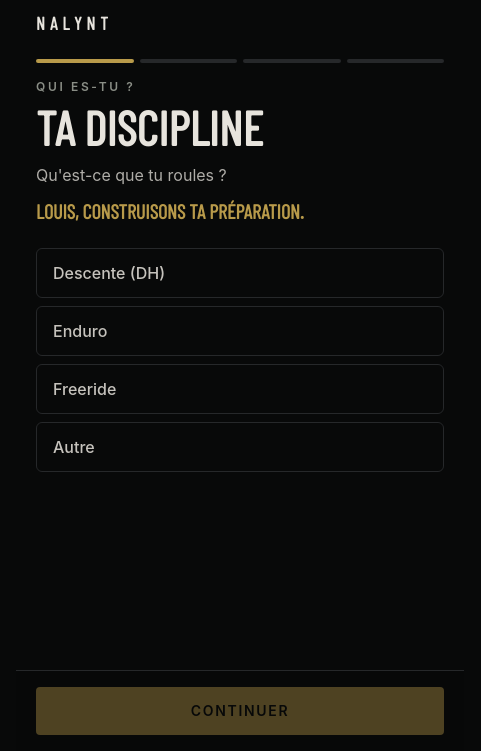
Test: AthleteOnboarding — one question per screen (UX-09) › each answer is saved at once and moves on: discipline → level → goal (with descriptions) → time
Check: the heading reads "Ta discipline", box [36,98,263,156]
Click the button "Descente (DH)".
click(109, 273)  # box [36,248,444,298]
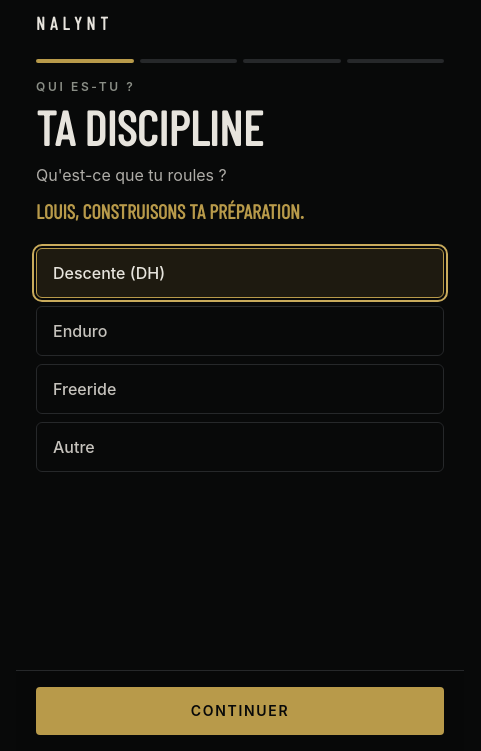
Click the button "Continuer".
click(240, 711)  # box [36,687,444,735]
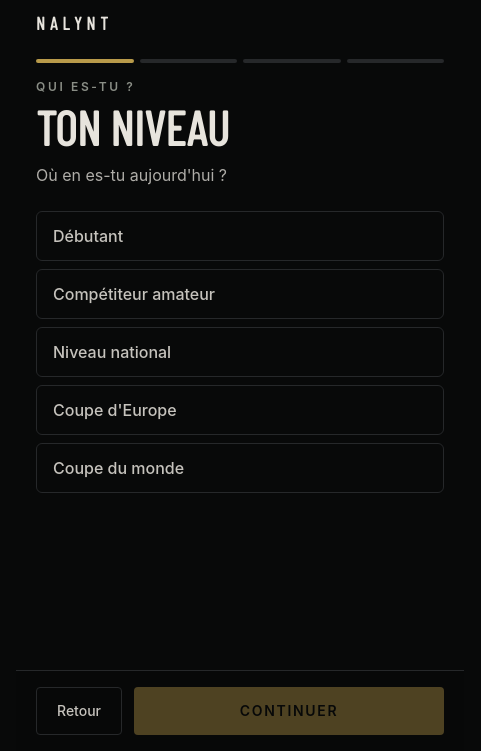
Check: the heading reads "Ton niveau", box [36,98,229,156]
Click the button "Compétiteur amateur".
click(134, 294)  # box [36,269,444,319]
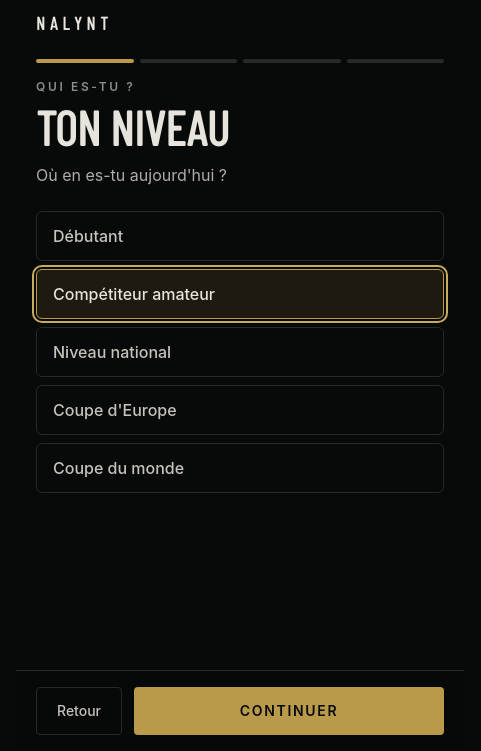
Click the button "Continuer".
click(289, 711)  # box [134,687,444,735]
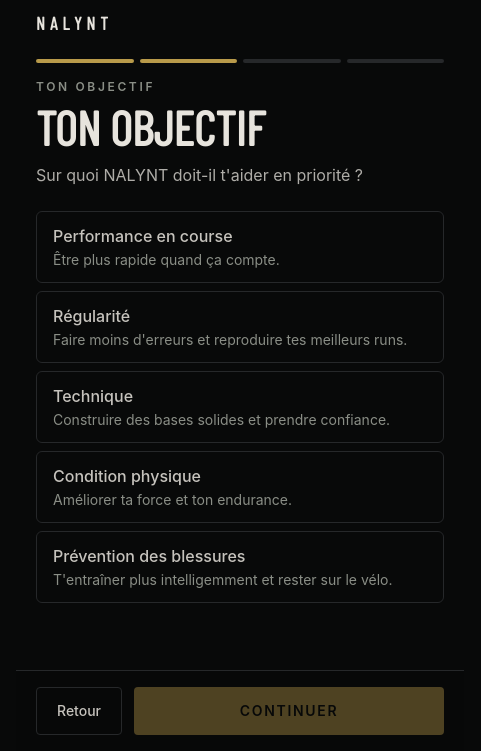
Check: the heading reads "Ton objectif", box [36,98,265,156]
Check: the text "Être plus rapide quand ça compte." is shown, box [53,251,280,268]
Check: the text "T'entraîner plus intelligemment et rester sur le vélo." is shown, box [53,570,427,590]
Click the button "Performance en course Être plus rapide quand ça compte.".
click(143, 236)  # box [36,211,444,283]
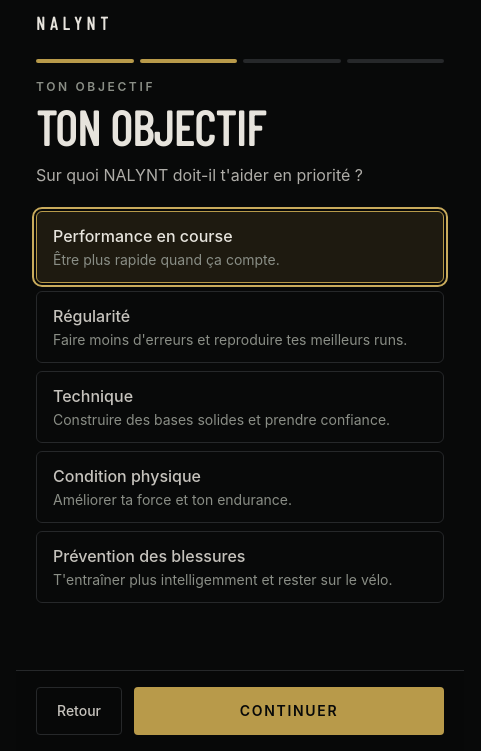
Click the button "Continuer".
click(289, 711)  # box [134,687,444,735]
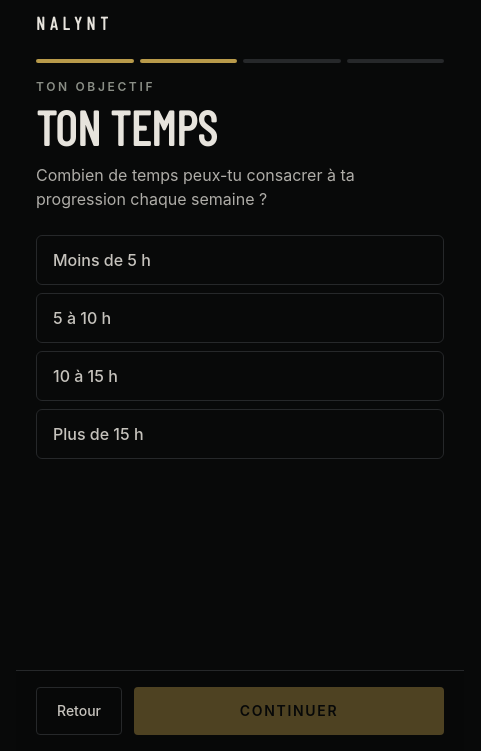
Check: the heading reads "Ton temps", box [36,98,217,156]
